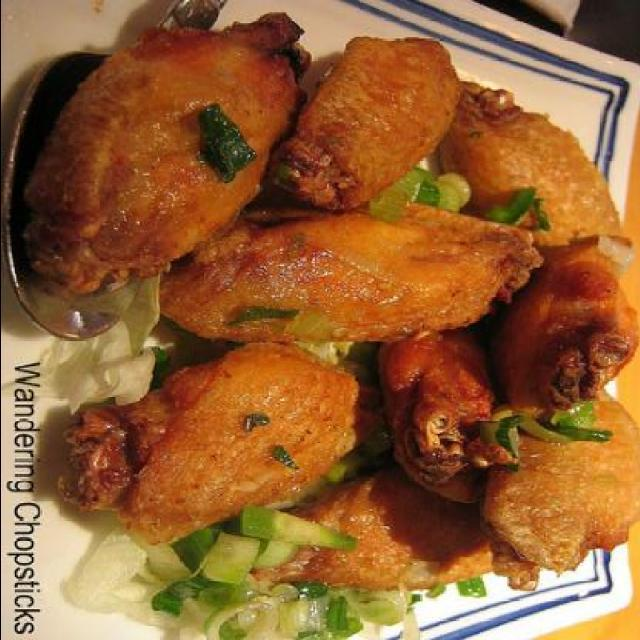Deep fried chicken wing: (56, 39, 612, 570)
